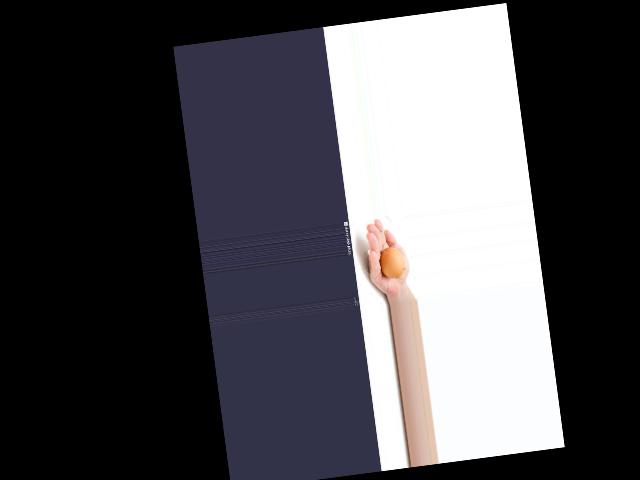egg: (378, 246, 406, 280)
